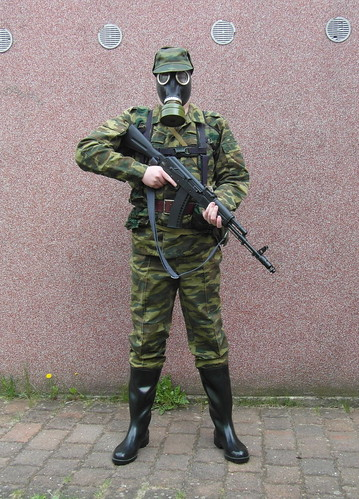soldier: (113, 53, 247, 477)
weapon: (132, 140, 282, 279)
